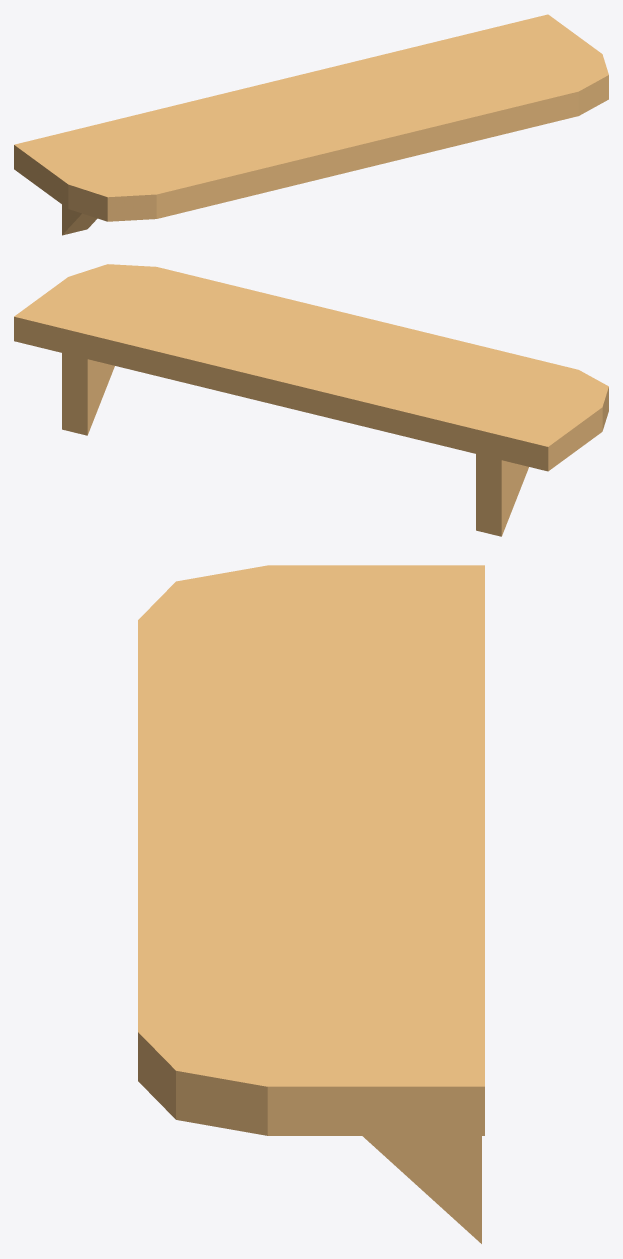
The model's file is shelf.glb.
3 views of the same model, one above another, from view 1: azimuth 30°, elevation 25°; view 2: azimuth 150°, elevation 25°; view 3: azimuth 270°, elevation 25° (orthographic). The views are drawn at different scales.
Parts seen in each view (by area): view 1: Shelf_01_Plane.005; view 2: Shelf_01_Plane.005; view 3: Shelf_01_Plane.005.
Part boxes in pixels (x1,y1,x2,y2): Shelf_01_Plane.005: (14, 14, 608, 235); Shelf_01_Plane.005: (14, 264, 608, 536); Shelf_01_Plane.005: (138, 565, 484, 1243).
Size of the model in its own units: 1.09 by 0.1996 by 0.3078.
